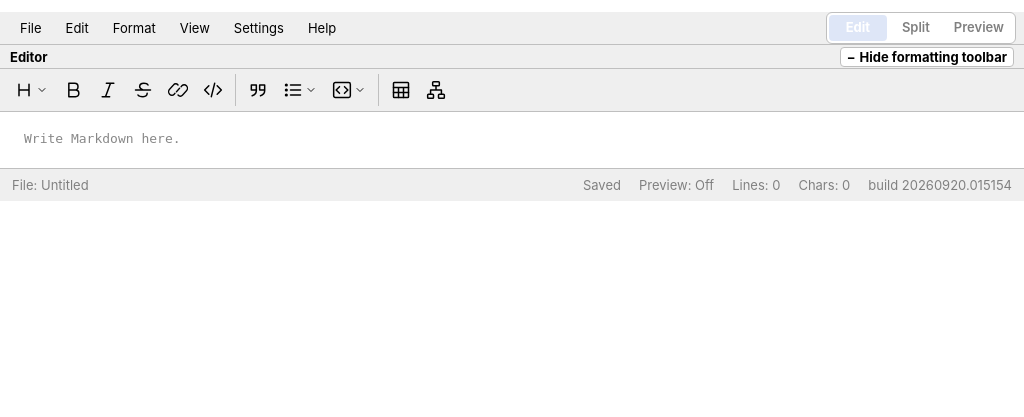
Test: History menu › keeps History available and reports empty history
This screenshot has width=1024, height=417.
What coordinates should you click on to do the following:
click the button "File"
I would click on:
 (31, 28)
Its box is [8,12,54,44].
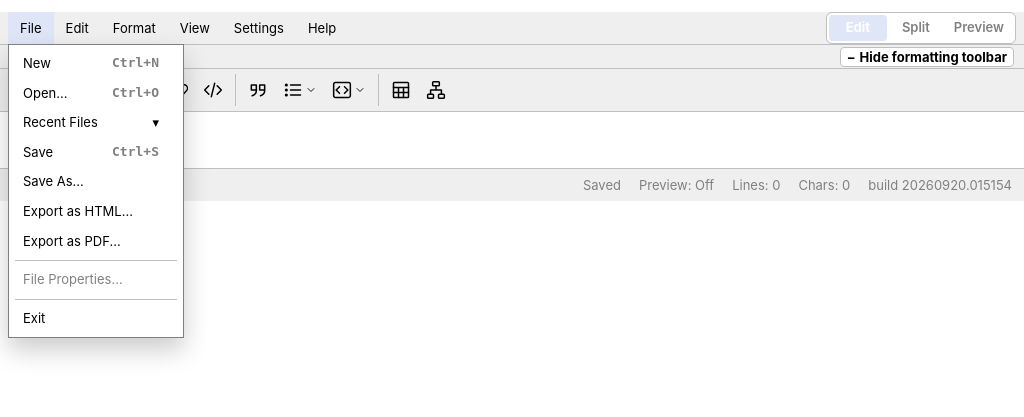
What coordinates should you click on to do the following:
click the menu item "Recent Files ▾"
I would click on:
 (96, 123)
Its box is [13,108,179,138].
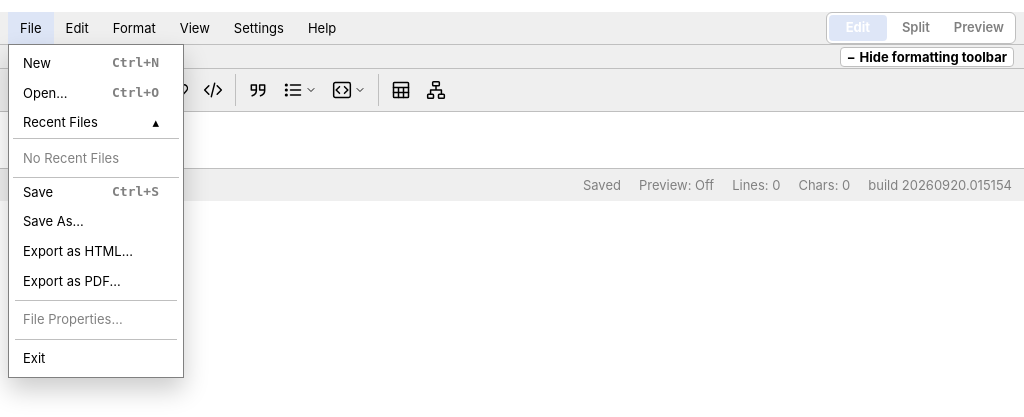
expect the menu item with class "menu-empty" reads "No Recent Files": met, box [23,150,119,166]
